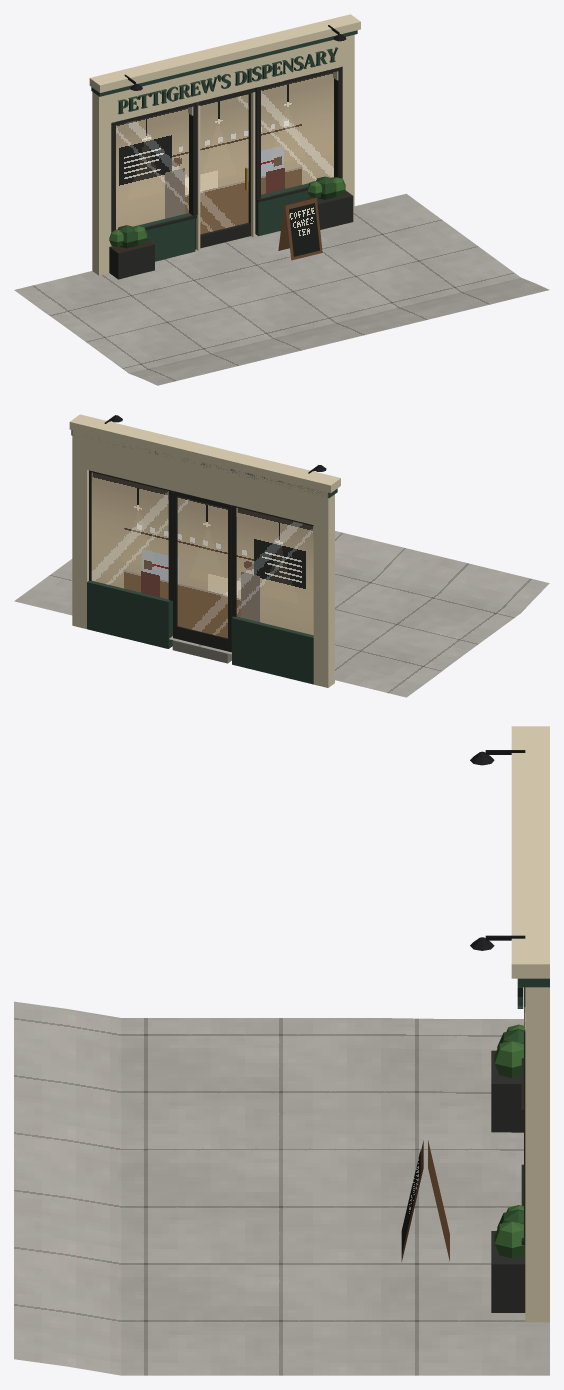
The model's file is pettigrews.glb.
The picture shows the model from 3 angles, top to bottom: view 1: azimuth 30°, elevation 25°; view 2: azimuth 150°, elevation 25°; view 3: azimuth 270°, elevation 25°; orthographic projection. The views are drawn at different scales.
Parts seen in each view (by area): view 1: Pettigrews; view 2: Pettigrews; view 3: Pettigrews.
Boxes of the visible parts, x1,y1,x2,y2 form: Pettigrews: [14, 14, 549, 385]; Pettigrews: [14, 414, 549, 697]; Pettigrews: [14, 726, 549, 1375].
Size of what is drawn, in the model's own units: 7.5 by 3.73 by 4.75.
Materials: 16 (3 with a texture image).
